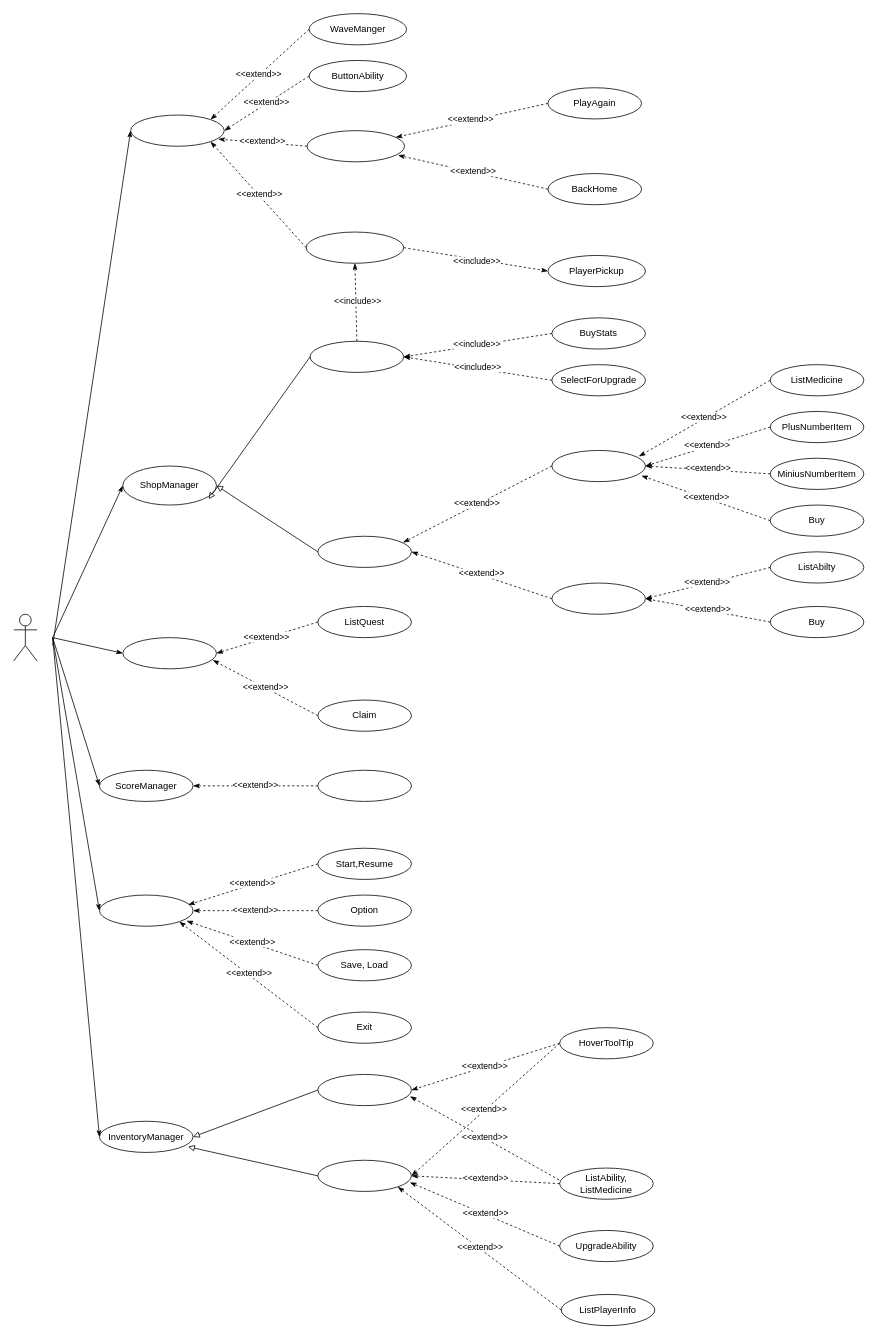
Some shapes in this 877 by 1339 pixel diagram are drawn without their labels. Here are the shapes that lost their labels. From the top down, the box of each, then its label:
(130, 114, 224, 146): BattleManager
(306, 130, 405, 162): GameOver
(305, 231, 404, 263): PlayerLevelUp
(309, 340, 404, 372): ShopUpgrade
(551, 450, 645, 482): TabListMedicine
(317, 535, 411, 567): ShopLobby
(551, 582, 645, 614): TabListAbility
(13, 613, 37, 661): User
(122, 637, 216, 669): QuestManager
(317, 769, 411, 801): ListScore
(99, 894, 193, 926): SettingManager
(317, 1074, 411, 1106): InventoryLobby
(317, 1159, 411, 1191): InventoryMatch
